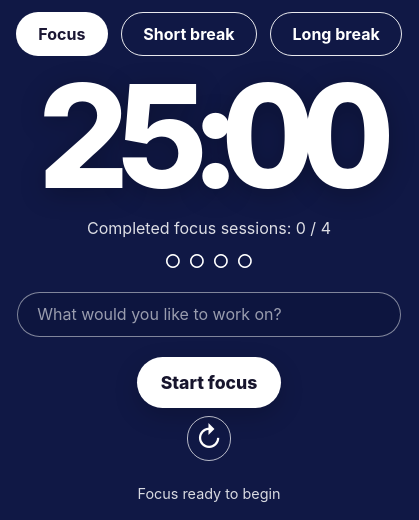
Test: TimerScreen › resets an active timer back to the configured focus duration
This screenshot has width=419, height=520.
Click the button "Start focus": (209, 382) [137, 357, 281, 408]
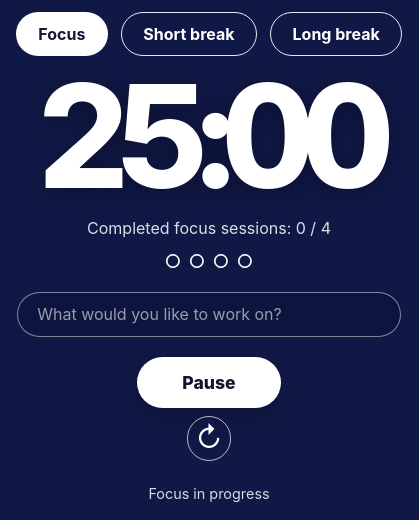
Click the button with aria-label "Reset timer": (209, 438) [187, 416, 231, 461]
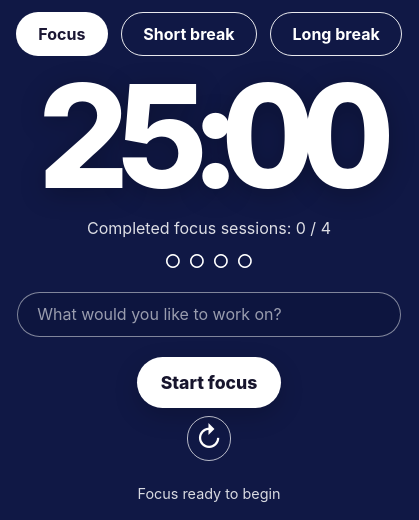
Expected: the text "25:00" is shown, [37, 76, 381, 198]
Result: the button "Start focus" is shown at [137, 357, 281, 408]
